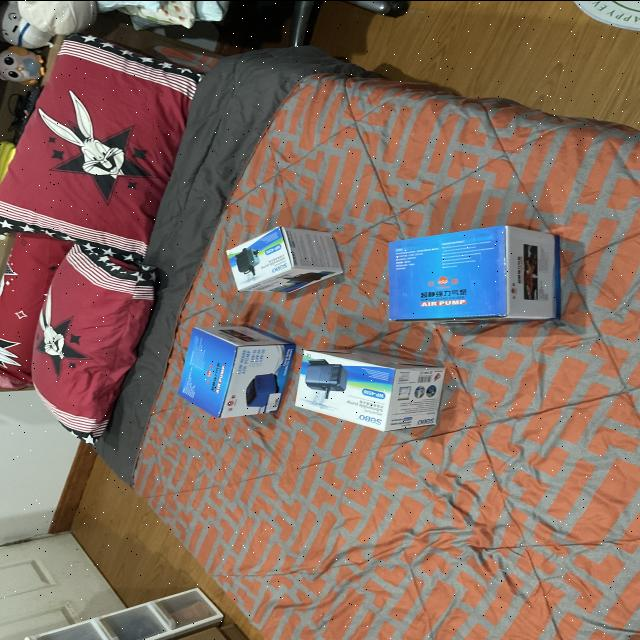SOBO_WP_4200: (279, 332, 452, 442), (208, 206, 354, 300)
YAMANO_LPP_20: (361, 216, 565, 330), (170, 312, 302, 426)
